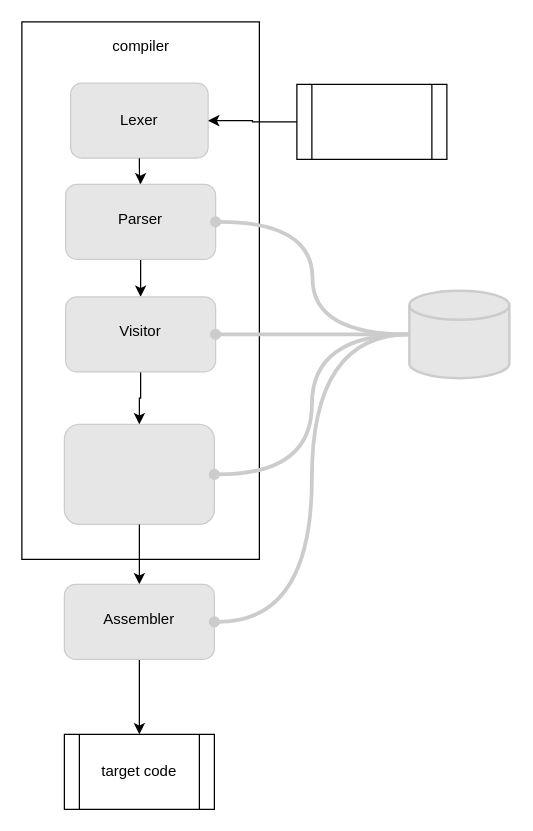
The diagram is 533 pixels wide and 831 high, and some of its shapes have lost their labels. The shapes that lost their labels are listed below. From the top down, each one's centre as x and y in pixels, then its label:
At point (371, 121): "src code".
At point (459, 334): "Symbol Table".
At point (138, 473): "Intermediate Code Generation".
